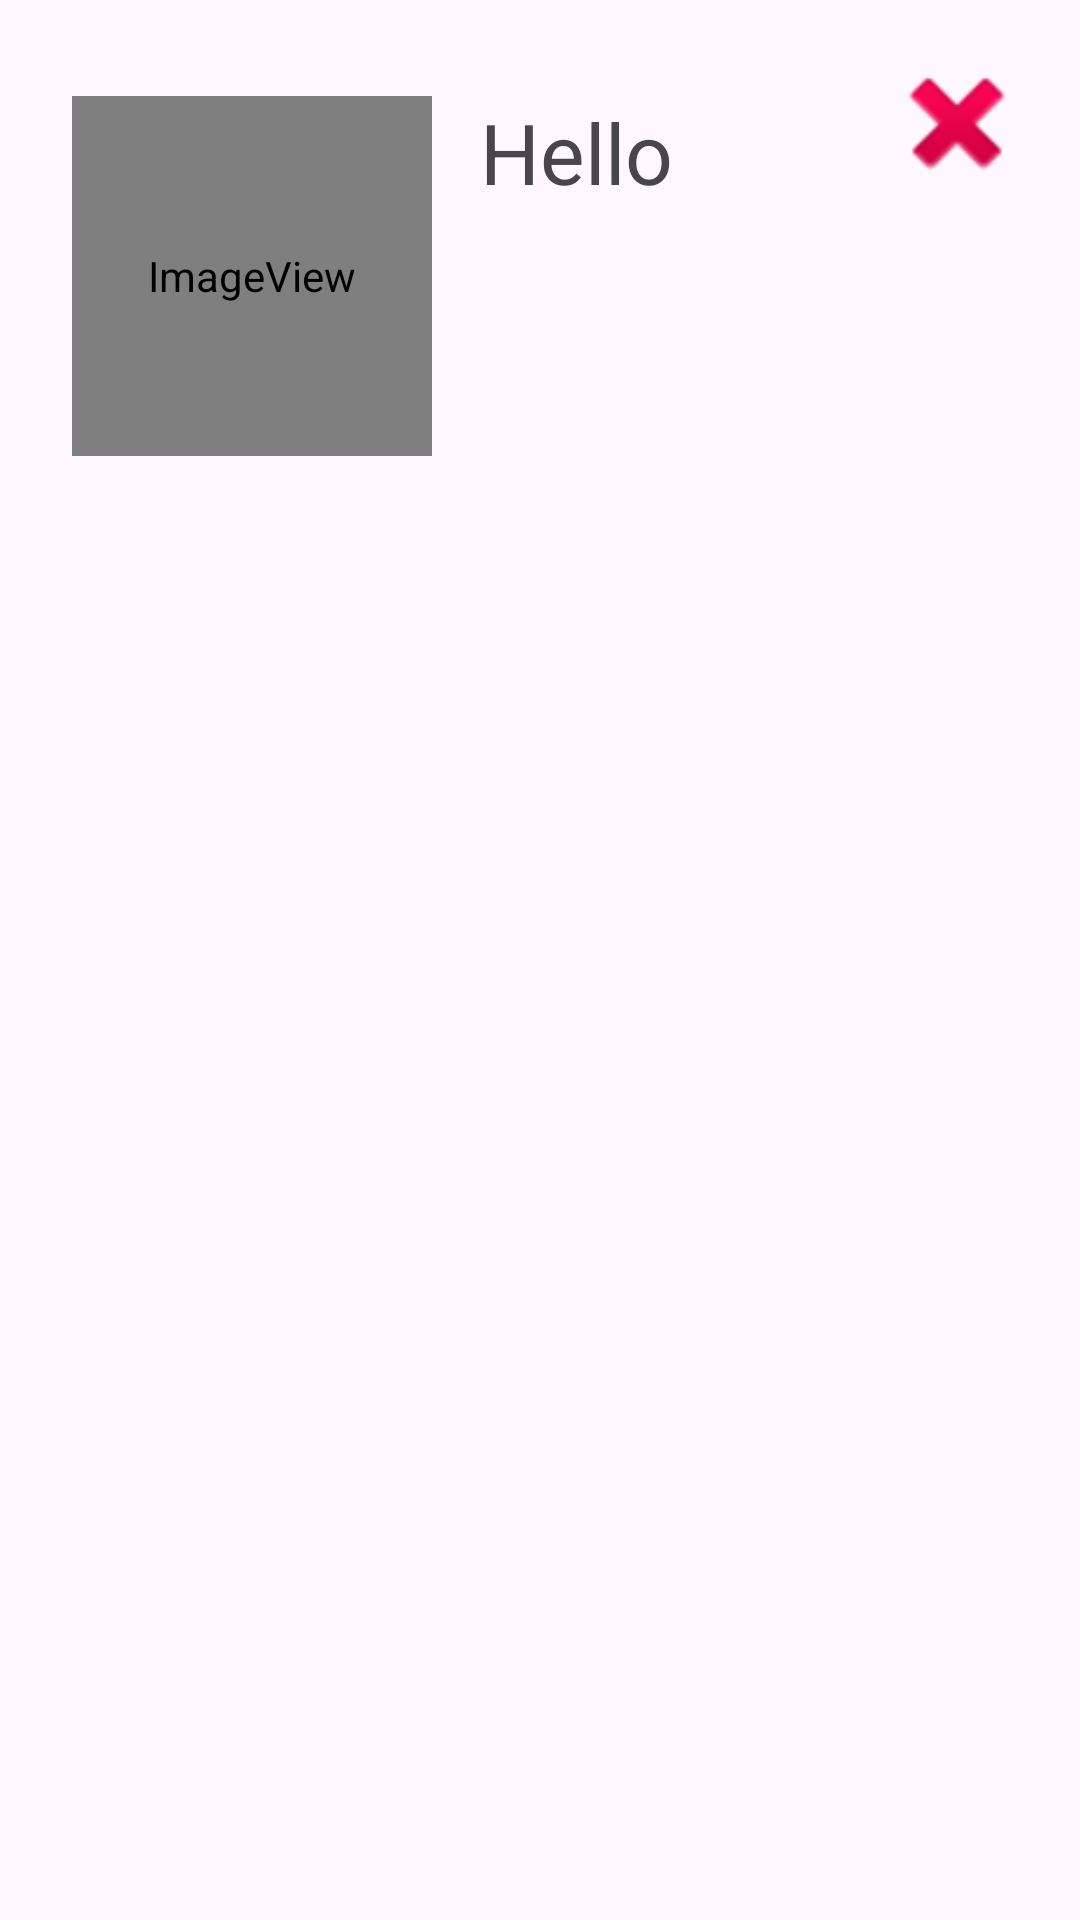

Point at icon controls on the screen. Image size 1080w x 1920h, points as (x=x, y=y).
delete: (x=957, y=124)
